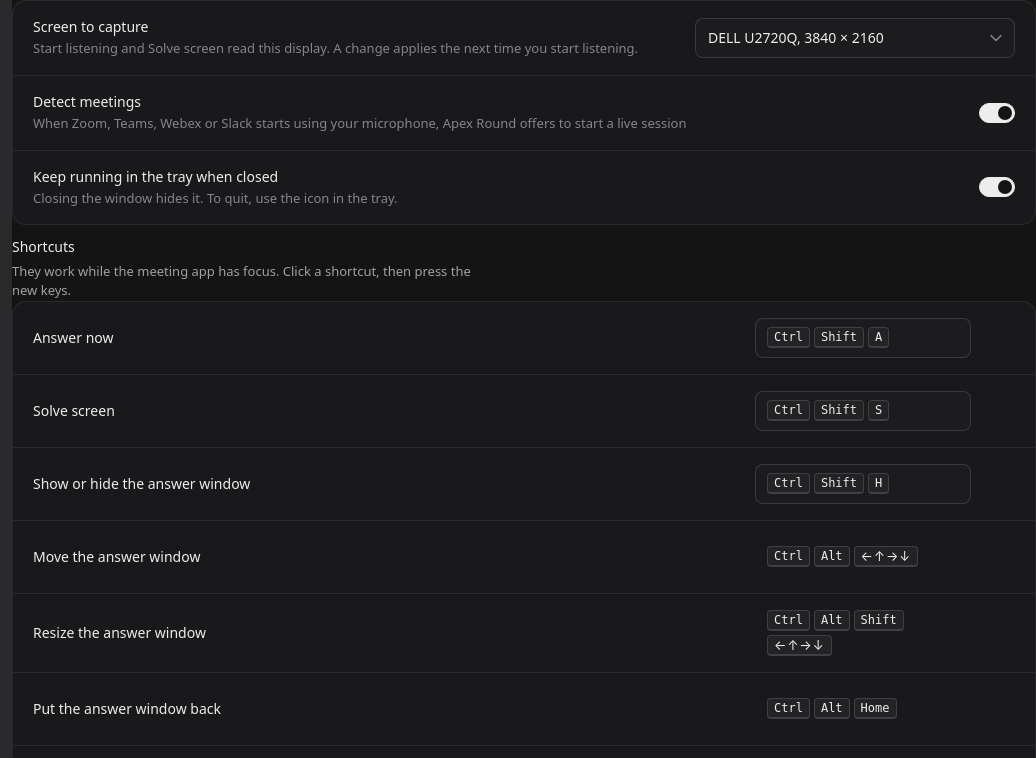
Test: DesktopSettings › catches keys that cannot work before asking the desktop app
Note: A bare letter would swallow typing everywhere.
Click the button with aria-label "Answer now: Ctrl+Shift+A. Change the shortcut".
click(863, 338)  # box [755,318,971,358]
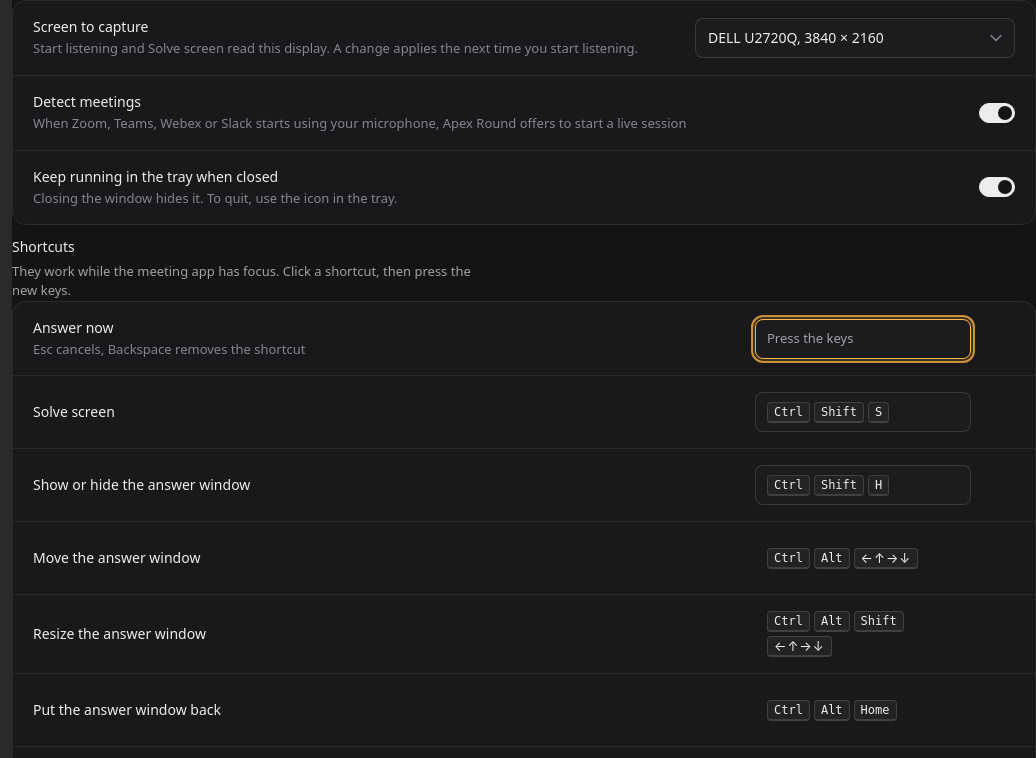
Press k in the button named "Answer now: Ctrl+Shift+A. Change the shortcut", box [755,319,971,359]
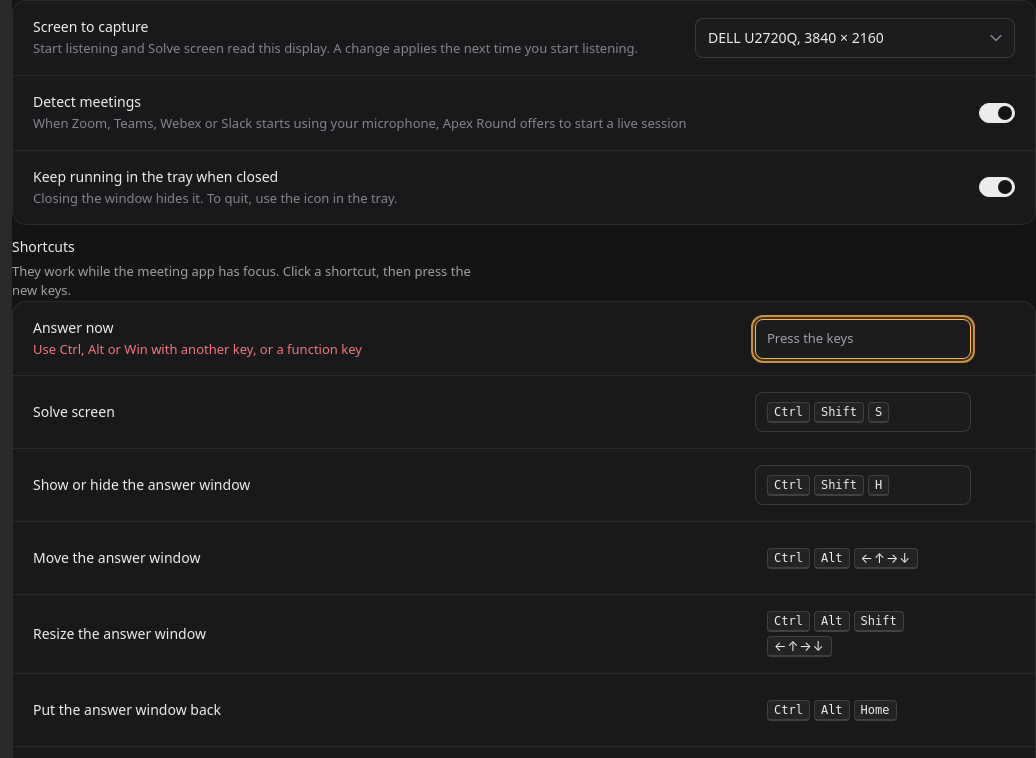
Result: the message reads "Use Ctrl, Alt or Win with another key, or a function key" at [33,340,362,358]
Note: Another command's shortcut.
Press S in the button named "Answer now: Ctrl+Shift+A. Change the shortcut", box [755,319,971,359]
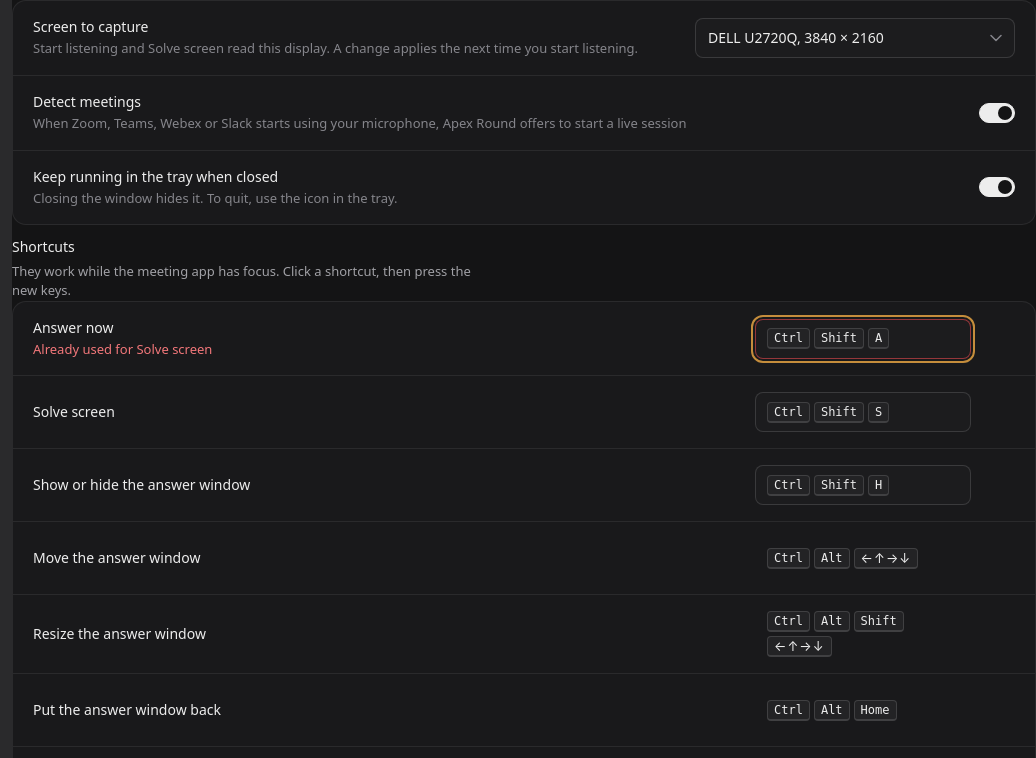
Result: the message reads "Already used for Solve screen" at [33,340,212,358]
Note: One of the answer window's fixed shortcuts.
Click the button with aria-label "Answer now: Ctrl+Shift+A. Change the shortcut".
click(863, 339)  # box [755,319,971,359]
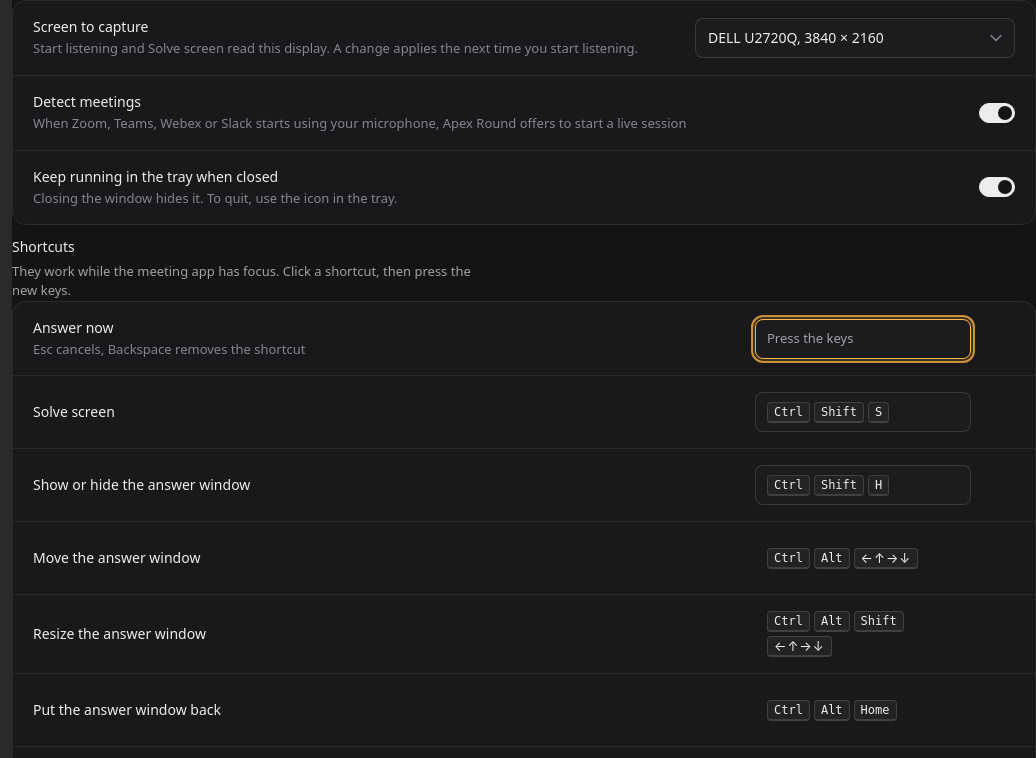
Press ArrowLeft in the button named "Answer now: Ctrl+Shift+A. Change the shortcut", box [755,319,971,359]
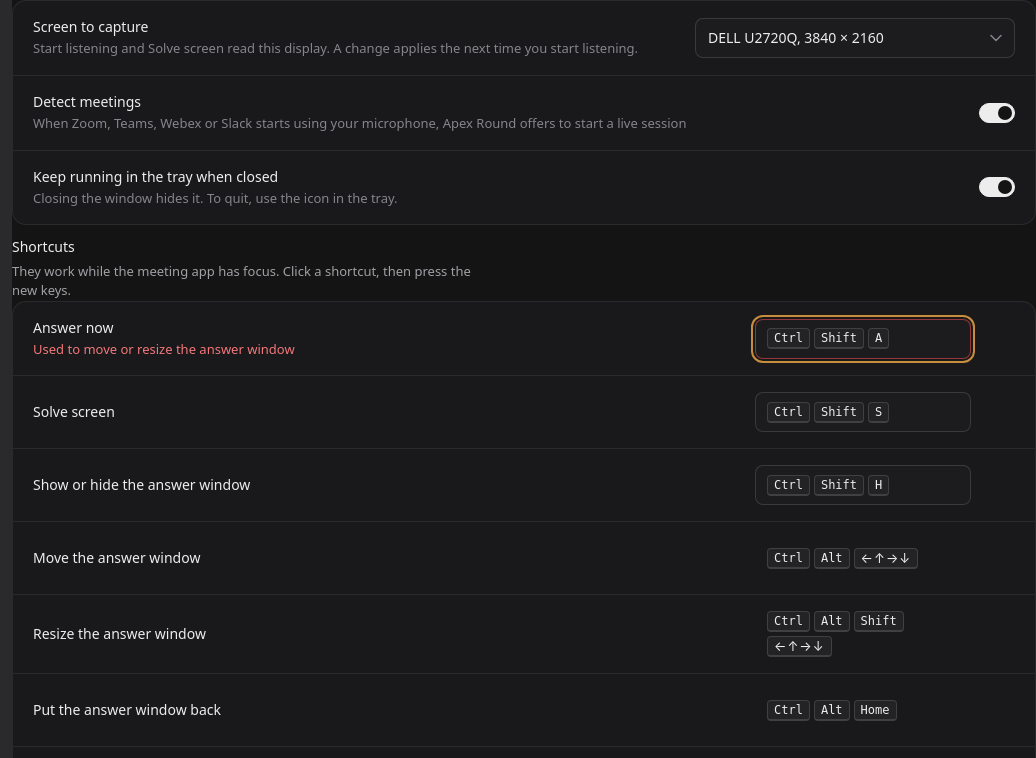
Result: the message reads "Used to move or resize the answer window" at [33,340,295,358]
